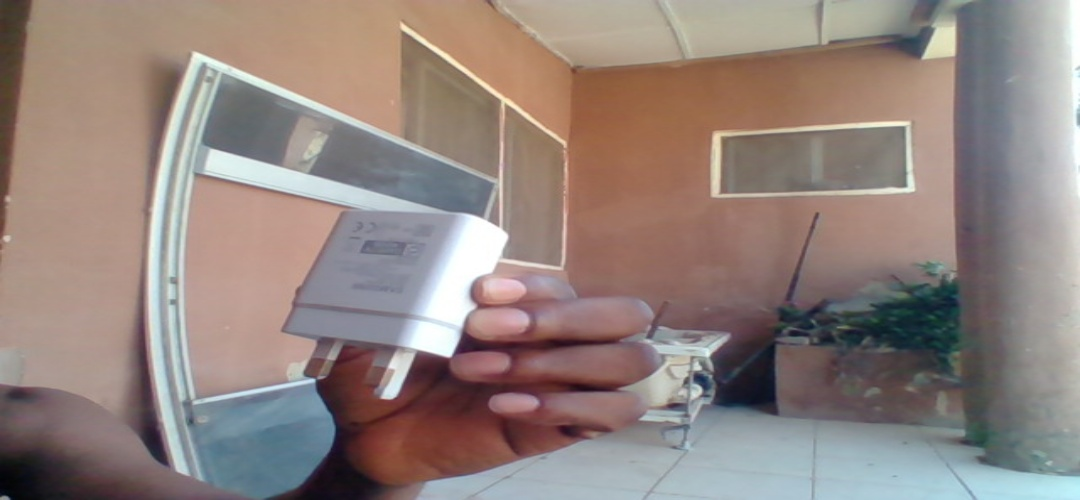phone_charger: (279, 202, 503, 403)
